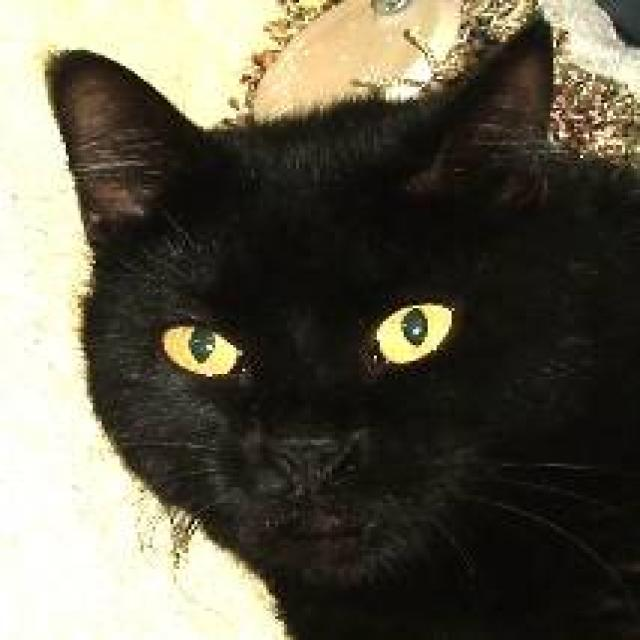Cat: (29, 26, 626, 584)
